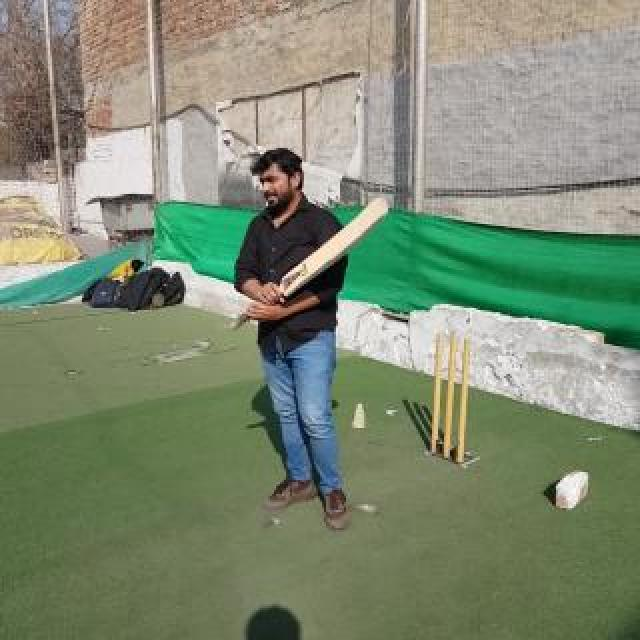bat: (231, 195, 389, 331)
